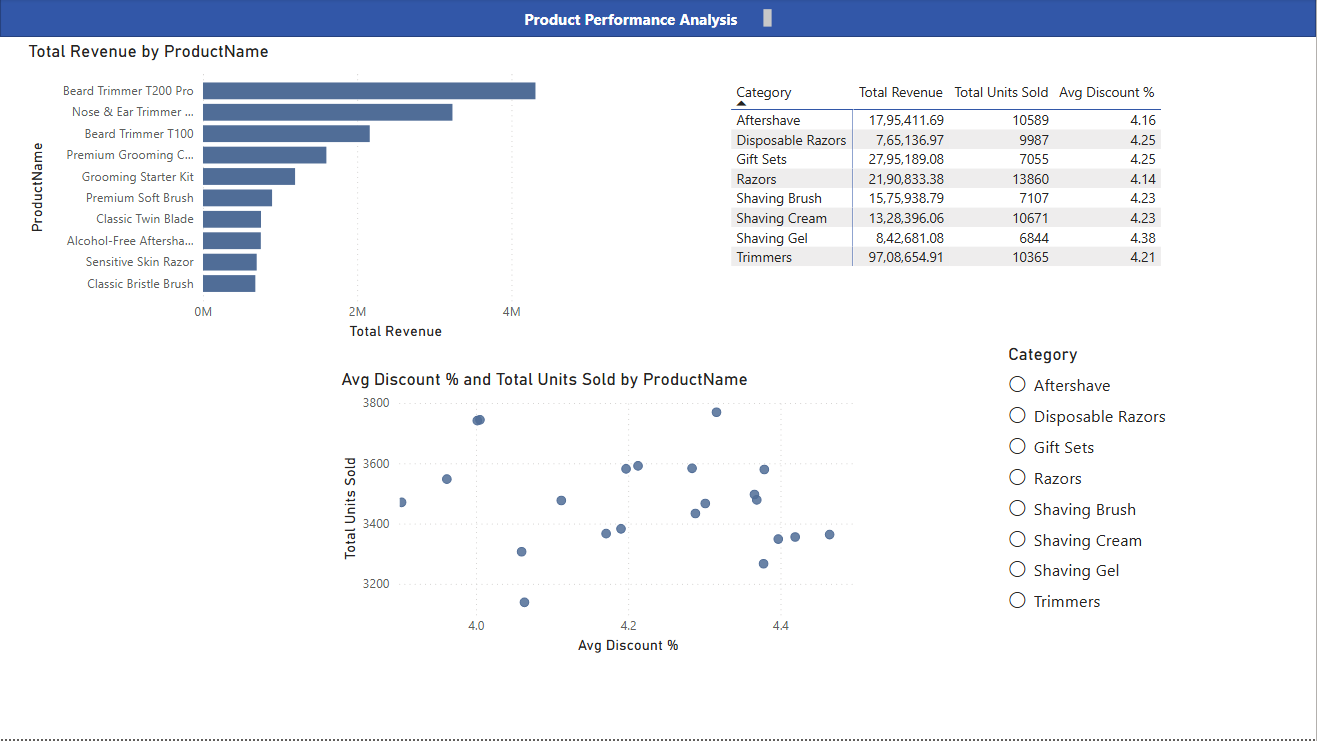

The dashboard page shown, as its layout file describes it:
{"tool":"powerbi","page":{"name":"Product Performance","canvas":[1280,720],"ordinal":1},"visuals":[{"type":"clusteredBarChart","fields":{"Category":["Product_Master.ProductName"],"Y":["_Measures.Total Revenue"]},"box":[22.4,40.9,564.1,294.7],"z":0},{"type":"pivotTable","fields":{"Rows":["Product_Master.Category"],"Values":["_Measures.Total Revenue","_Measures.Total Units Sold","_Measures.Avg Discount %"]},"box":[706.1,74.9,443.5,227.6],"z":1},{"type":"scatterChart","fields":{"Category":["Product_Master.ProductName"],"X":["_Measures.Avg Discount %"],"Y":["_Measures.Total Units Sold"]},"box":[326.8,359.9,519.4,281.1],"z":2},{"type":"listSlicer","fields":{"Values":["Product_Master.Category"]},"box":[975.6,335.6,180.9,277.2],"z":3},{"type":"shape","box":[0,0,1280,37],"z":4},{"type":"textbox","box":[479.5,4.9,276.2,28.2],"z":5}]}

Visuals, with their boxes in screenshot pixels (x1, y1, x2, y2), scaled from the page's 1280x720 canvas onto the 1317x741 screenshot:
clusteredBarChart - Product_Master.ProductName x _Measures.Total Revenue: Rect(23, 42, 603, 345)
pivotTable - Product_Master.Category x _Measures.Total Revenue: Rect(727, 77, 1183, 311)
scatterChart - Product_Master.ProductName x _Measures.Avg Discount %: Rect(336, 370, 871, 660)
listSlicer - Product_Master.Category: Rect(1004, 345, 1190, 631)
shape: Rect(0, 0, 1316, 38)
textbox: Rect(493, 5, 778, 34)
